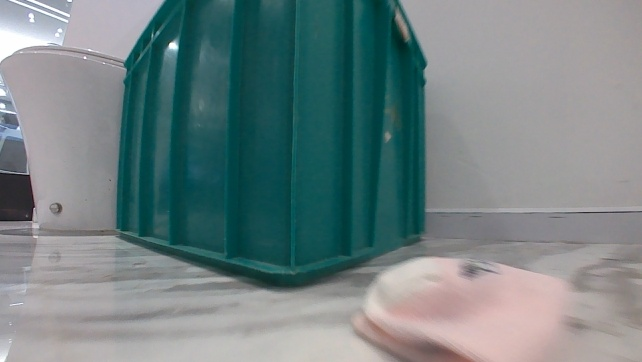socks: (349, 249, 579, 361)
toilet: (0, 41, 130, 238)
